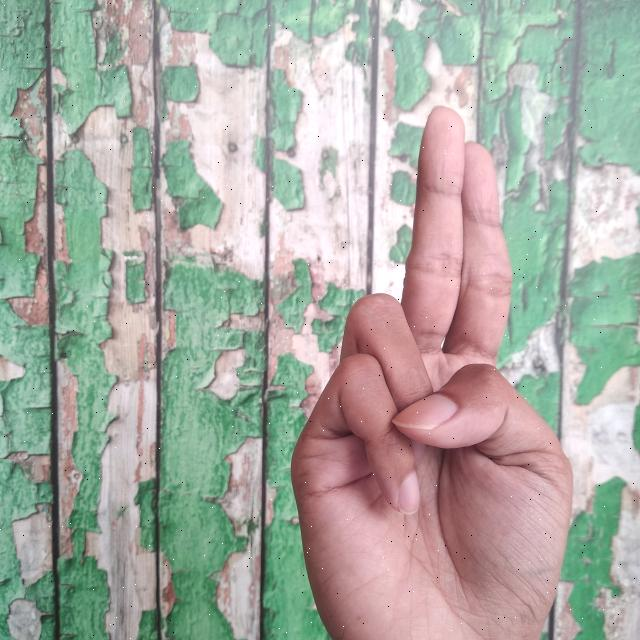U: (282, 98, 584, 640)
